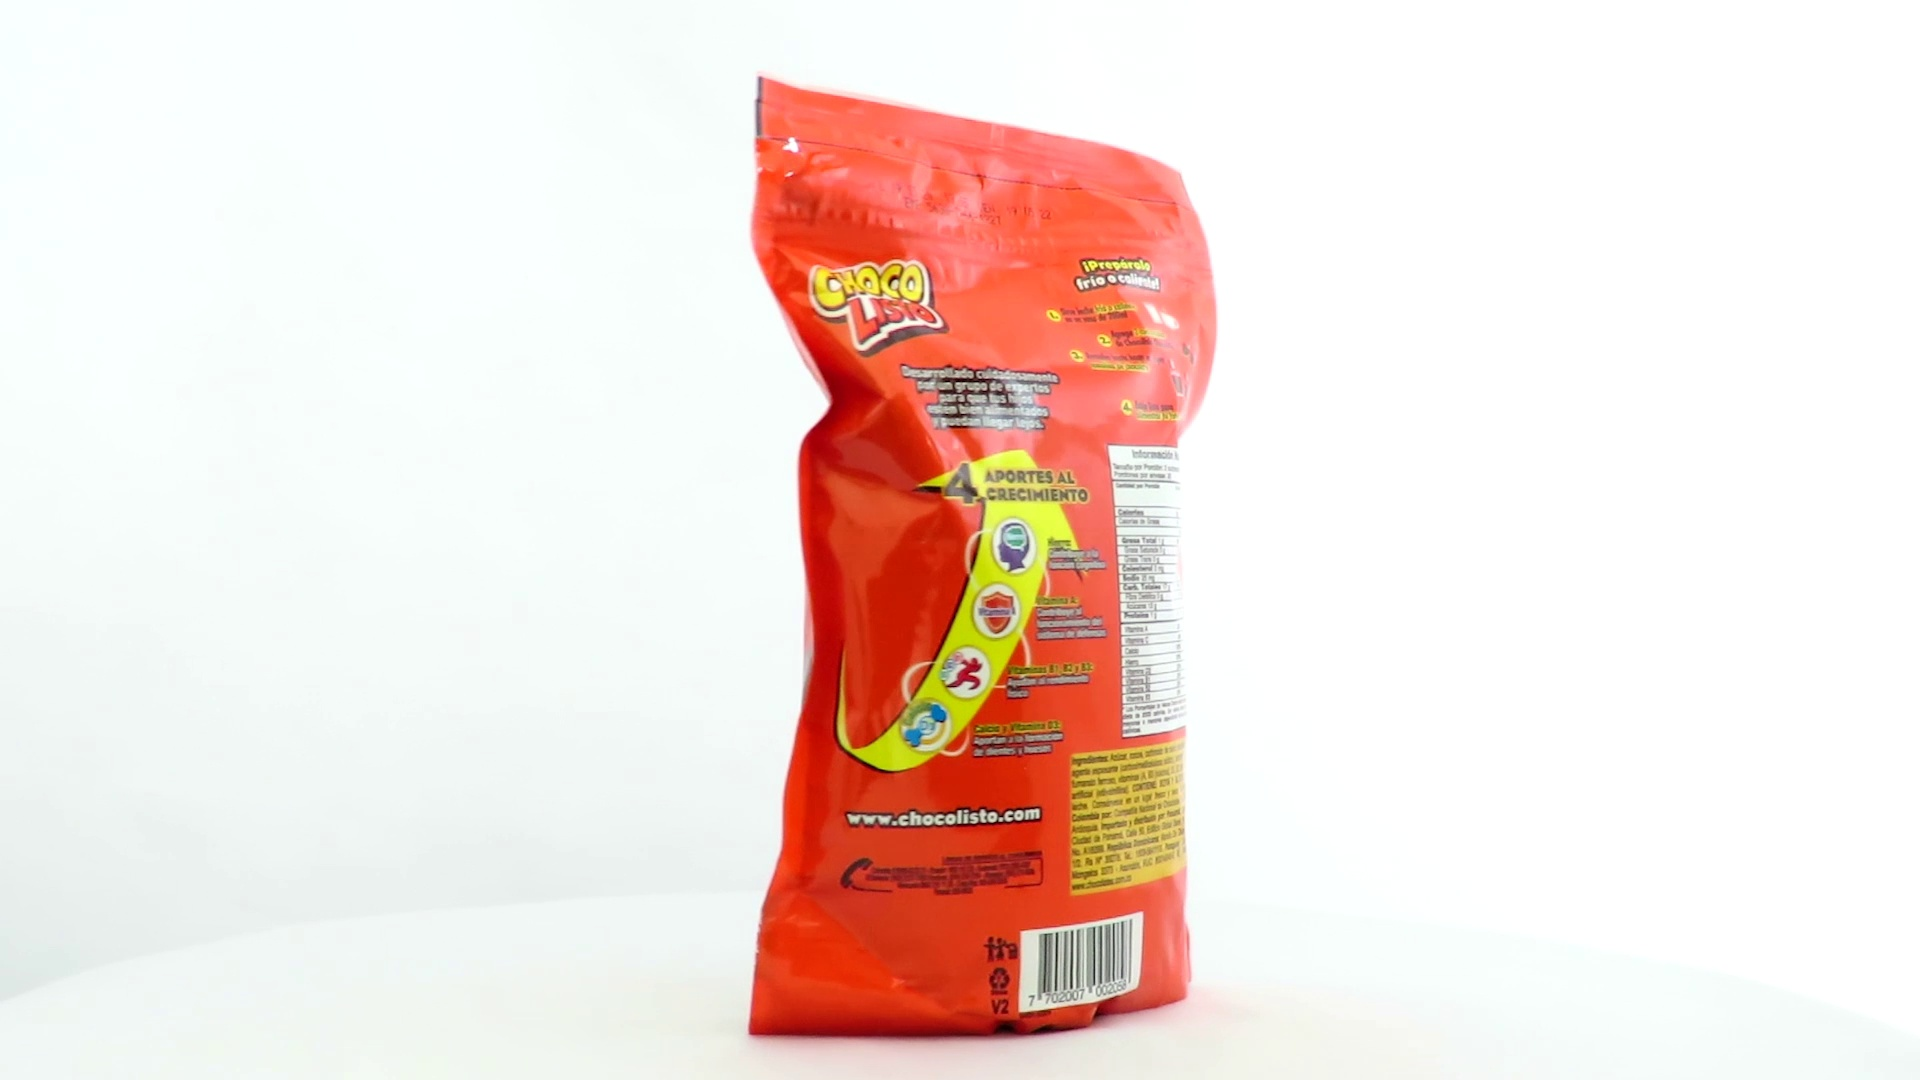COL0170103DYP40000: (742, 71, 1222, 1047)
